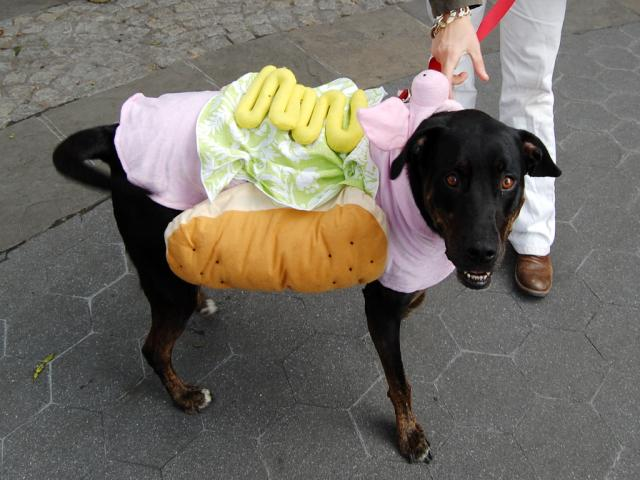Dog: (51, 109, 563, 466)
